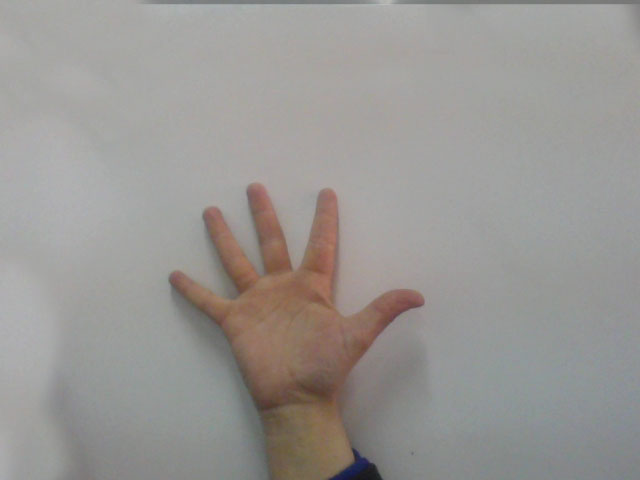hand: (157, 172, 443, 402)
